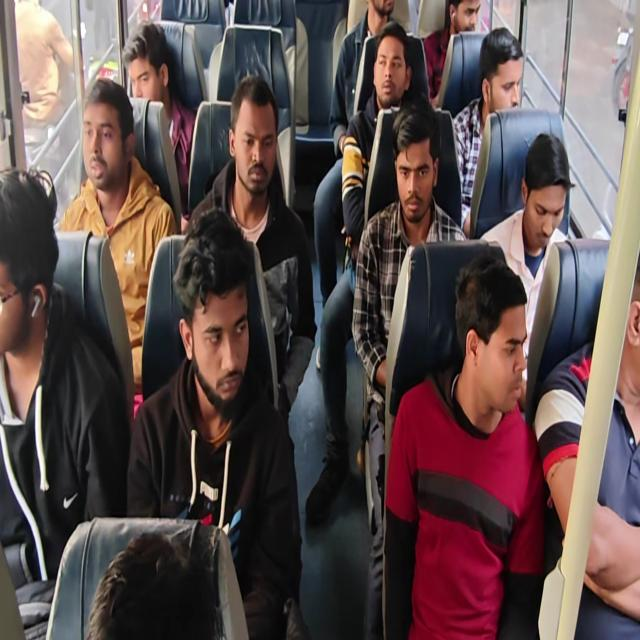person: (169, 200, 252, 413), (454, 257, 532, 414), (1, 156, 62, 352), (99, 524, 200, 640), (386, 102, 447, 248), (226, 76, 286, 206), (82, 69, 139, 196), (521, 120, 573, 246), (126, 12, 179, 116), (476, 17, 524, 123), (621, 251, 640, 418), (378, 18, 413, 101), (446, 0, 481, 40), (370, 0, 400, 21)
